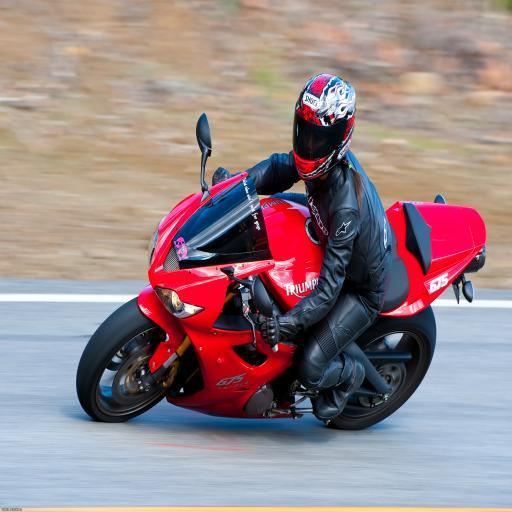helmet: (168, 41, 404, 457)
